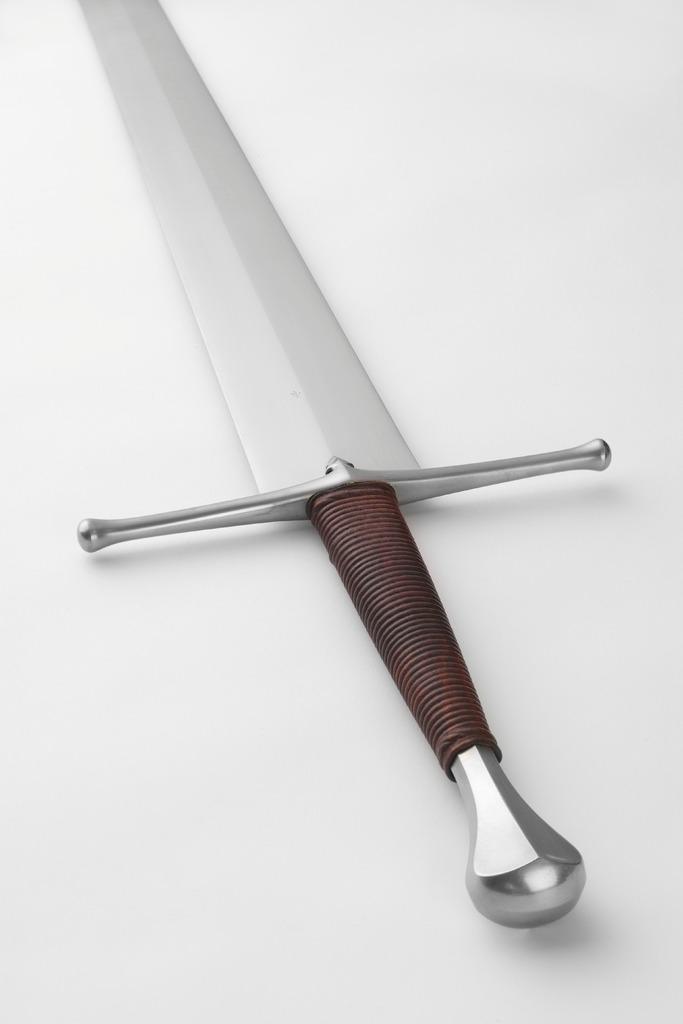sword: (68, 53, 658, 905)
